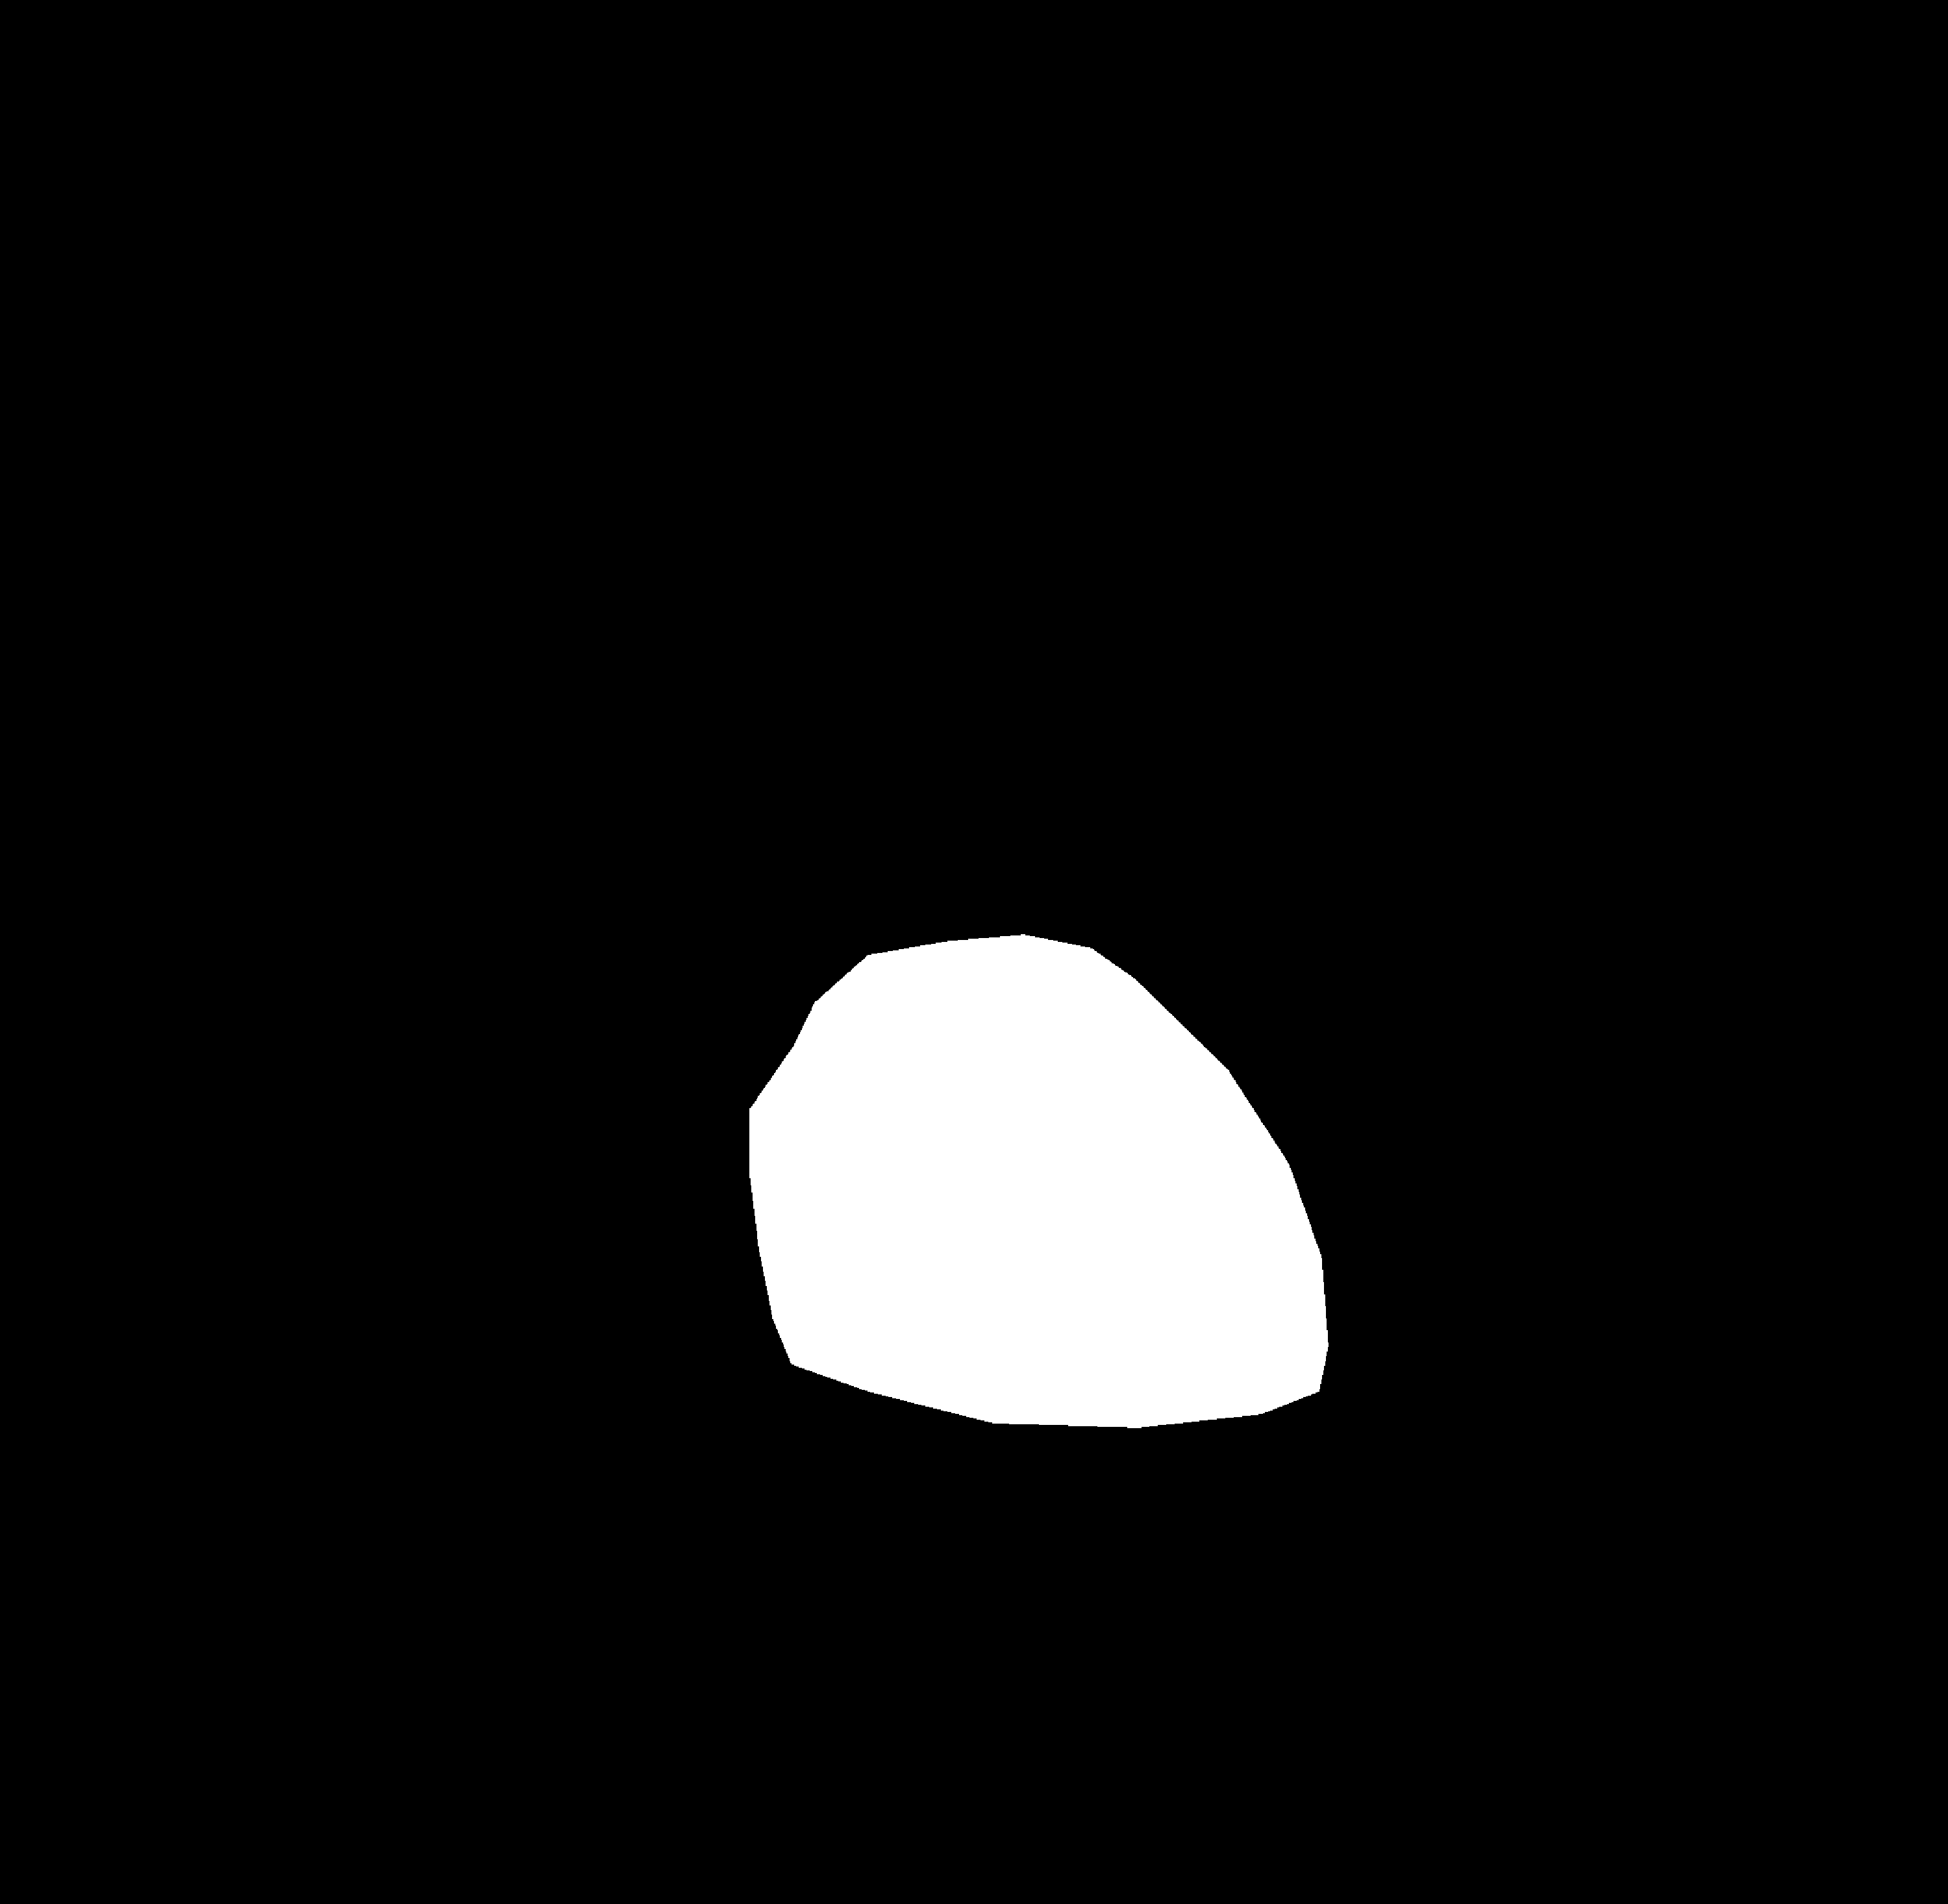heart: (752, 980, 1324, 1465)
left_lung: (337, 314, 875, 1519)
right_lung: (1024, 314, 1563, 1540)
